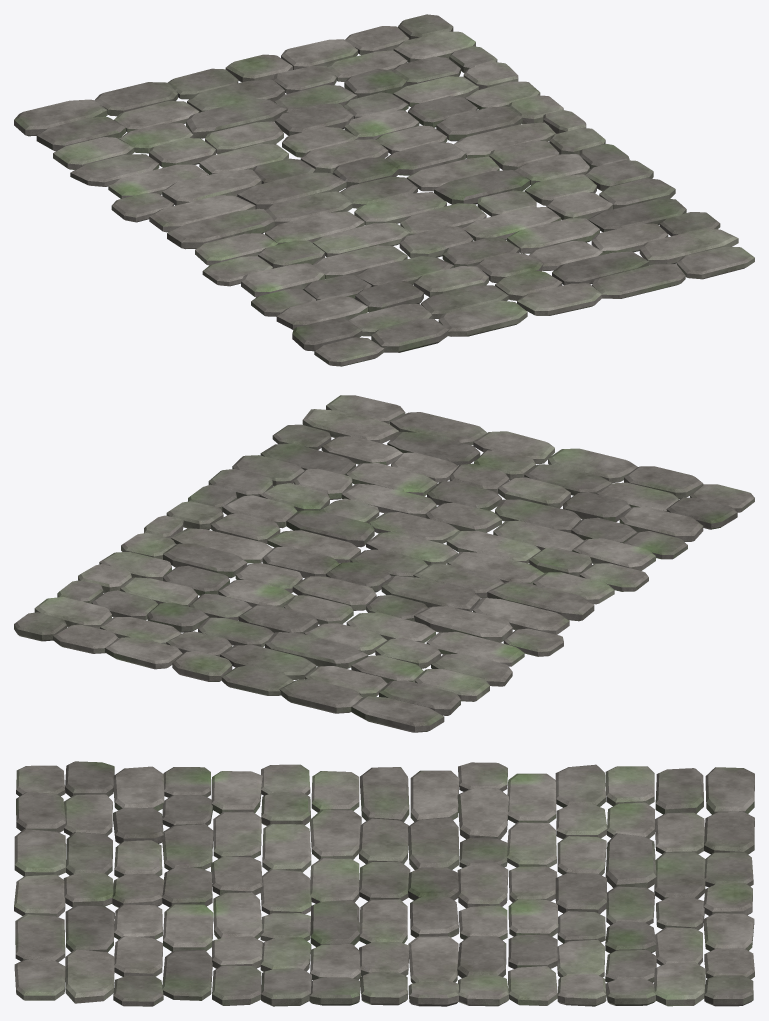
The model's file is cobbles.glb.
3 views of the same model, one above another, from view 1: azimuth 30°, elevation 25°; view 2: azimuth 150°, elevation 25°; view 3: azimuth 270°, elevation 25° (orthographic). The views are drawn at different scales.
Visible parts, largest first — view 1: cobbles; view 2: cobbles; view 3: cobbles.
Part boxes in pixels (bbox=[...]): cobbles: bbox=[14, 14, 754, 366]; cobbles: bbox=[14, 395, 754, 732]; cobbles: bbox=[14, 761, 754, 1006].
Size of the model in its own units: 3.06 by 0.0691 by 4.01.
1 material, 1 textured.
